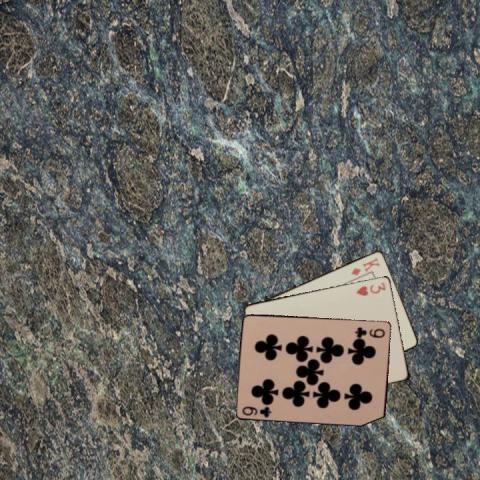3h: (353, 279, 387, 297)
9c: (239, 403, 273, 418), (352, 324, 386, 338)
Kd: (348, 254, 382, 277)
